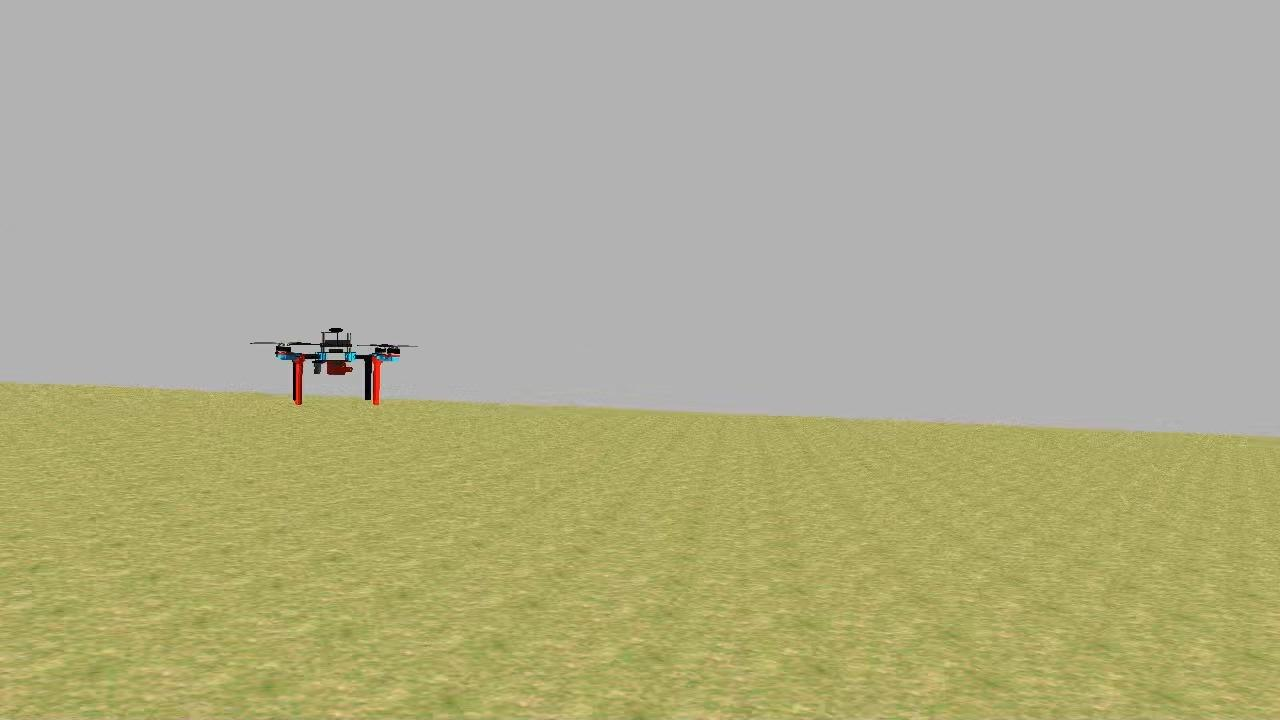UAV: (266, 324, 410, 414)
